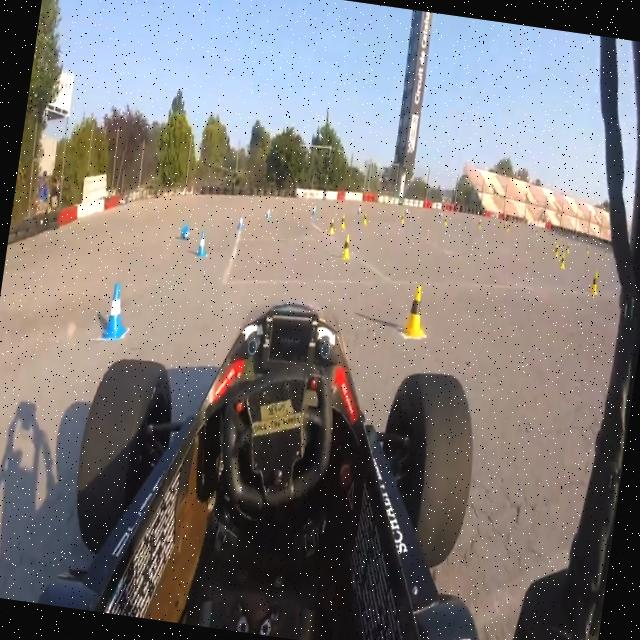blue_cone: (103, 278, 130, 348), (192, 226, 216, 270), (232, 211, 247, 234)
yellow_cone: (398, 284, 436, 342), (336, 230, 359, 260), (323, 212, 338, 234)
